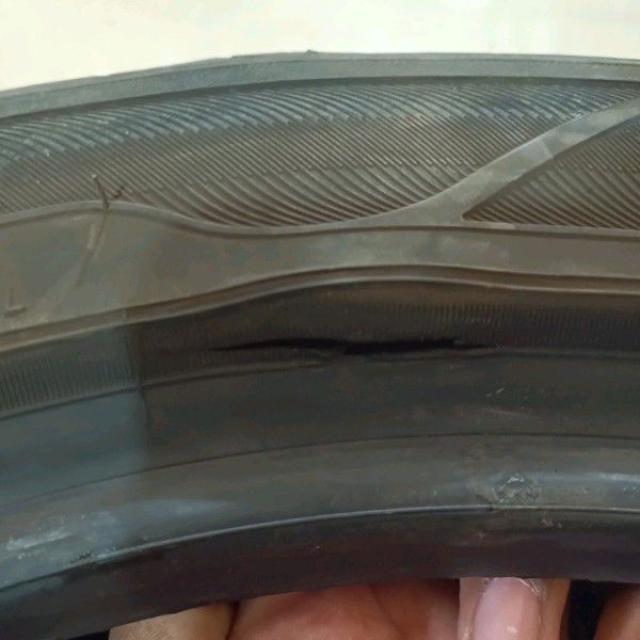Bulge: (172, 175, 547, 363)
